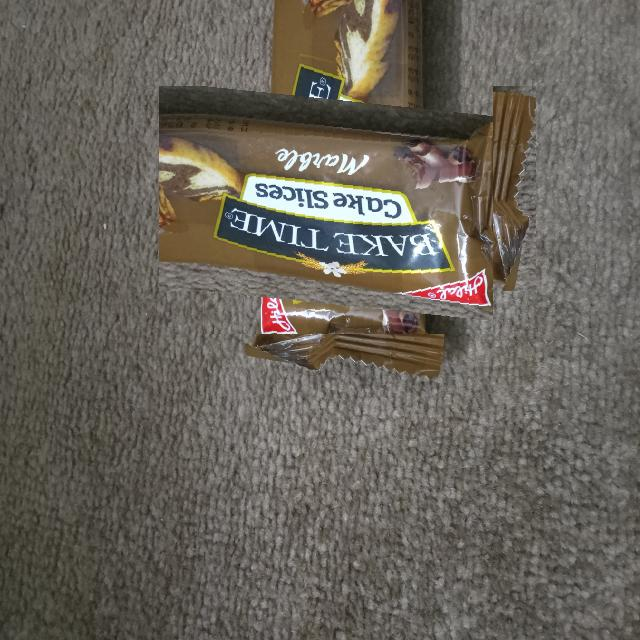Plastic: (202, 43, 493, 334)
